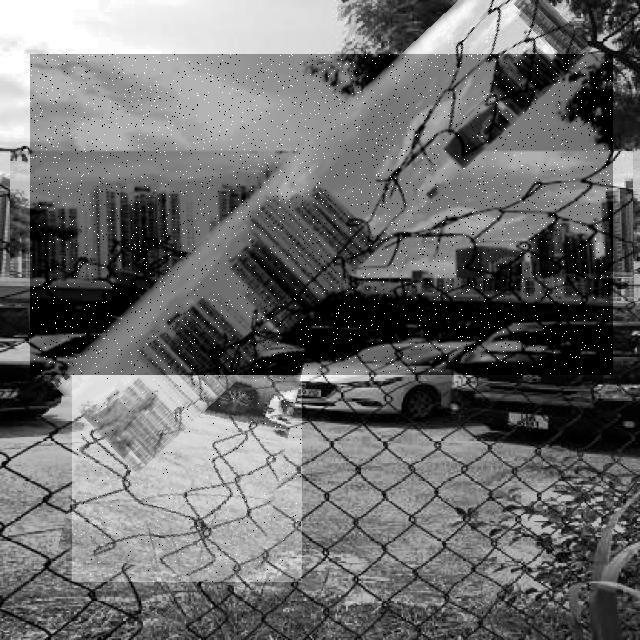anomaly-fence: (30, 54, 613, 375), (72, 277, 302, 582)
